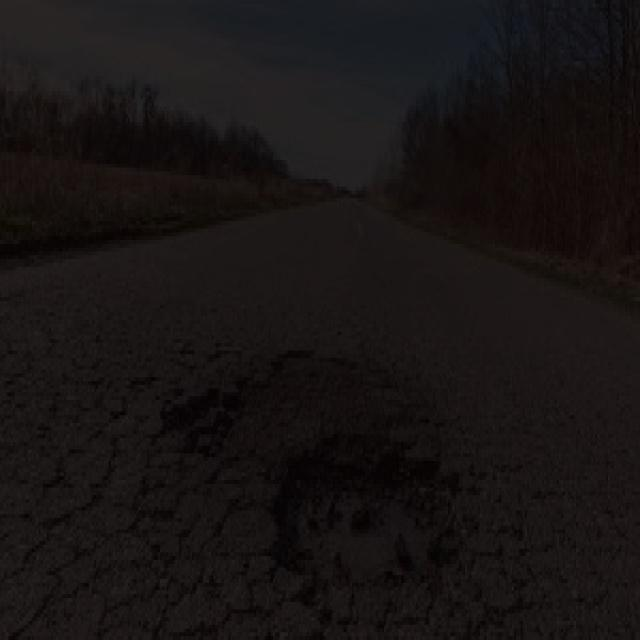Pothole: (256, 417, 476, 624), (150, 384, 244, 469), (260, 345, 331, 379)
